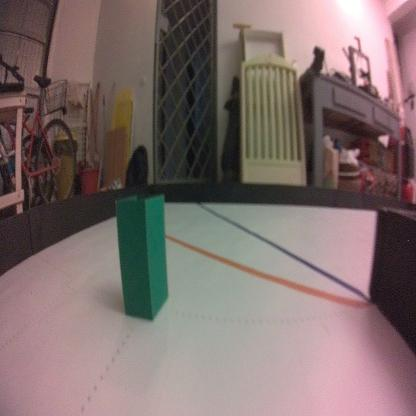green: (114, 188, 170, 325)
